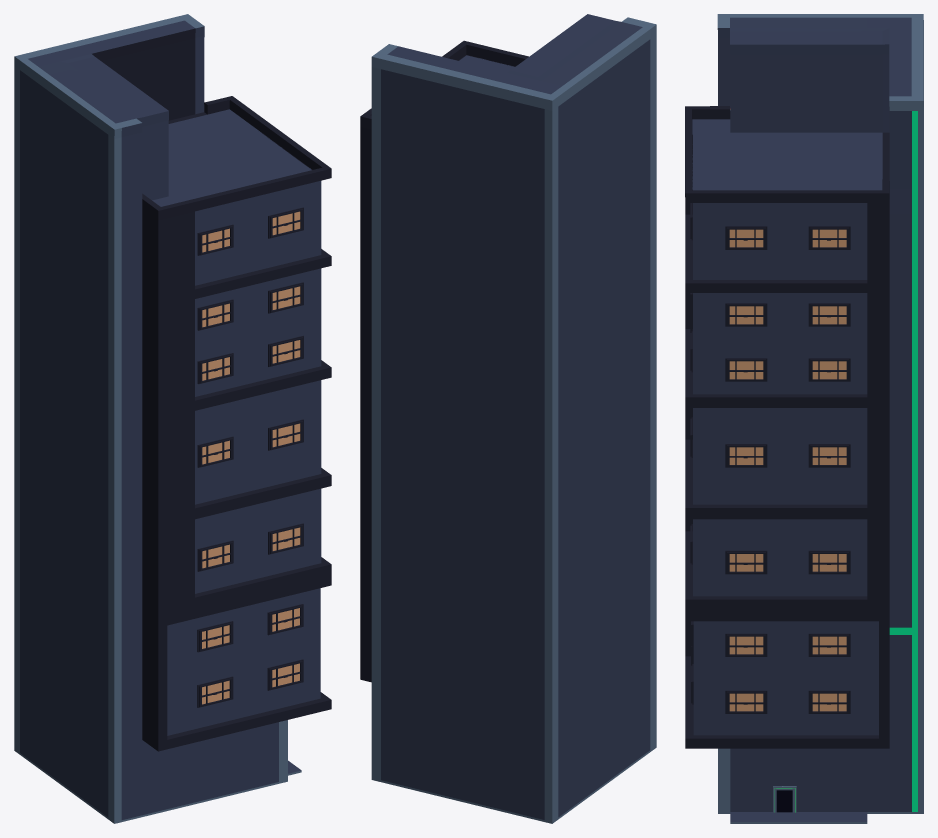
The model's file is Building_Skyscraper03.fbx.
The picture shows the model from 3 angles, left to right: view 1: azimuth 30°, elevation 25°; view 2: azimuth 150°, elevation 25°; view 3: azimuth 270°, elevation 25°; orthographic projection. The views are drawn at different scales.
Parts seen in each view (by area): view 1: Cube.449; view 2: Cube.449; view 3: Cube.449.
Boxes of the visible parts, x1=… form: Cube.449: x1=14, y1=14, x2=331, y2=823; Cube.449: x1=360, y1=14, x2=656, y2=823; Cube.449: x1=685, y1=14, x2=923, y2=823.
Size of the model in its own units: 1280 by 4220 by 1282.
